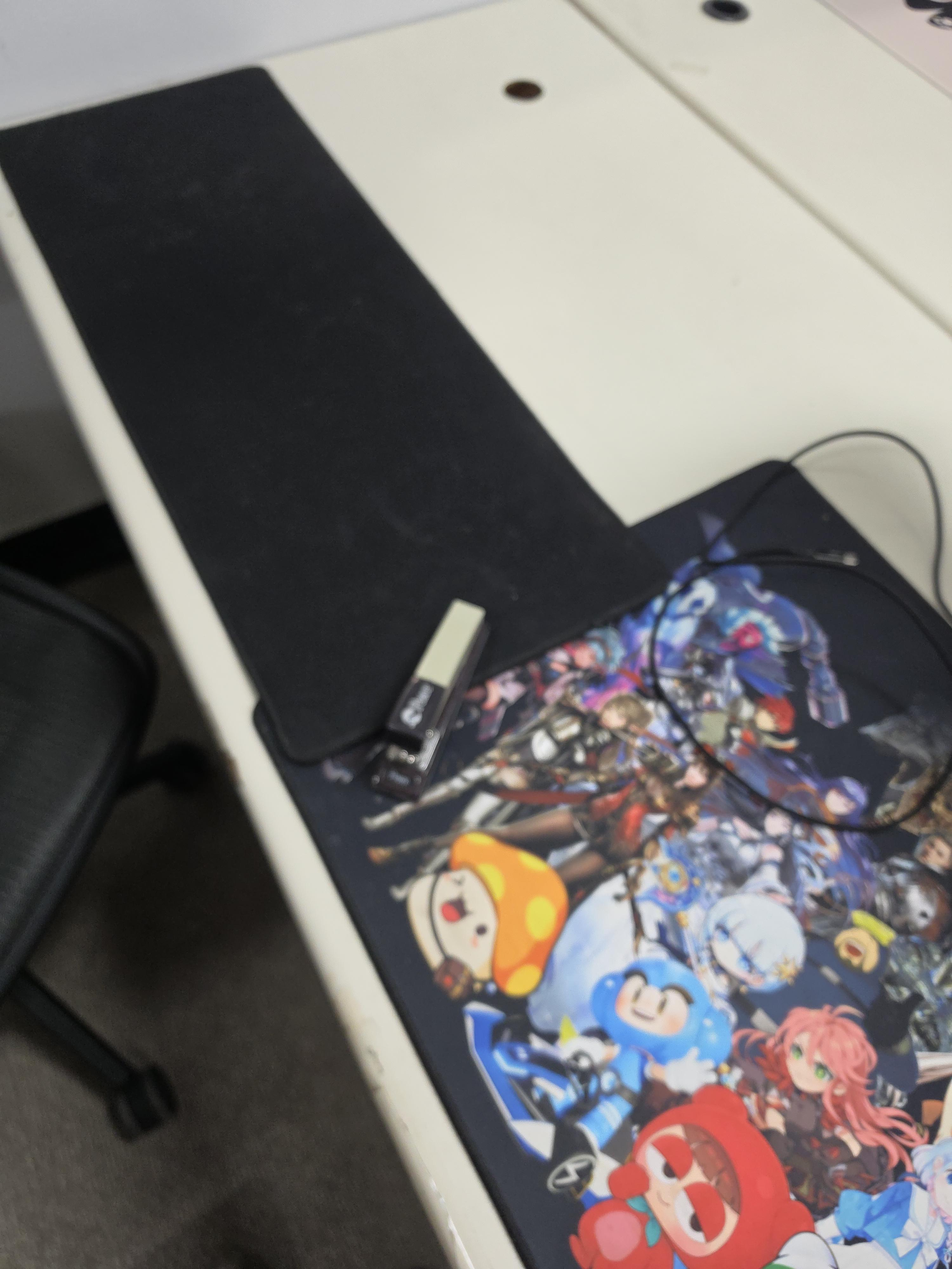stapler: (371, 598, 492, 801)
